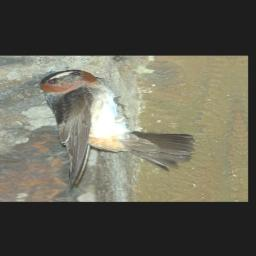Swallow: (36, 66, 201, 192)
